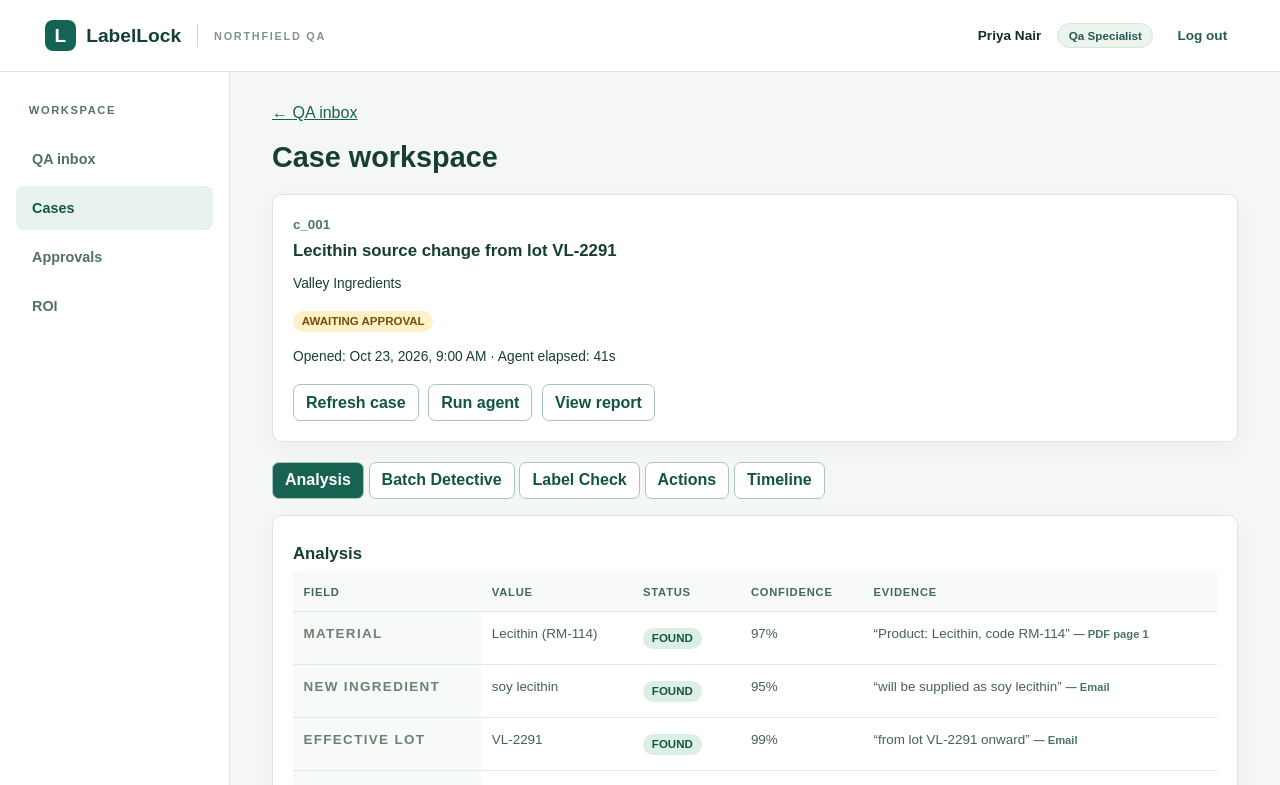
case workspace › shows the contract conflict error instead of hiding it
Click the button "Run agent": point(480, 403) [428,384,532,421]
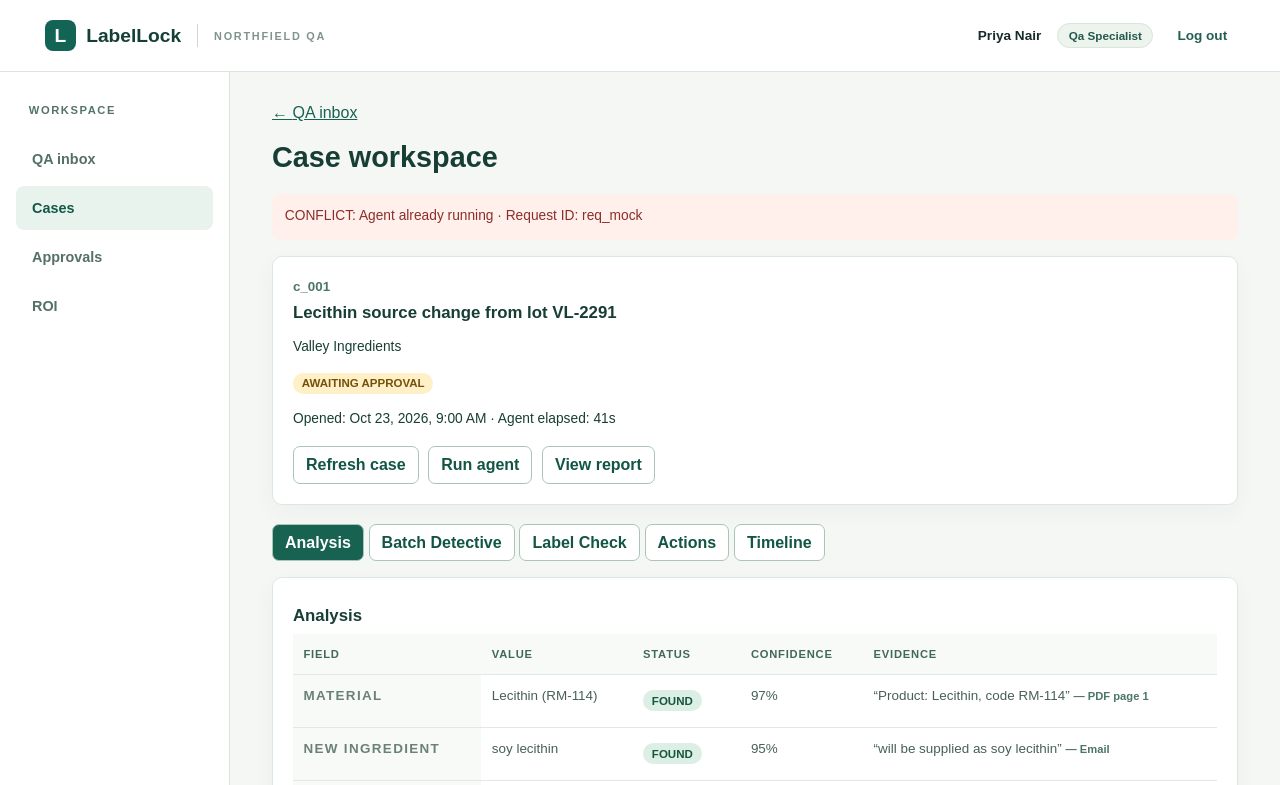
Check: the message shows "CONFLICT: Agent already running", box [285,208,642,223]
